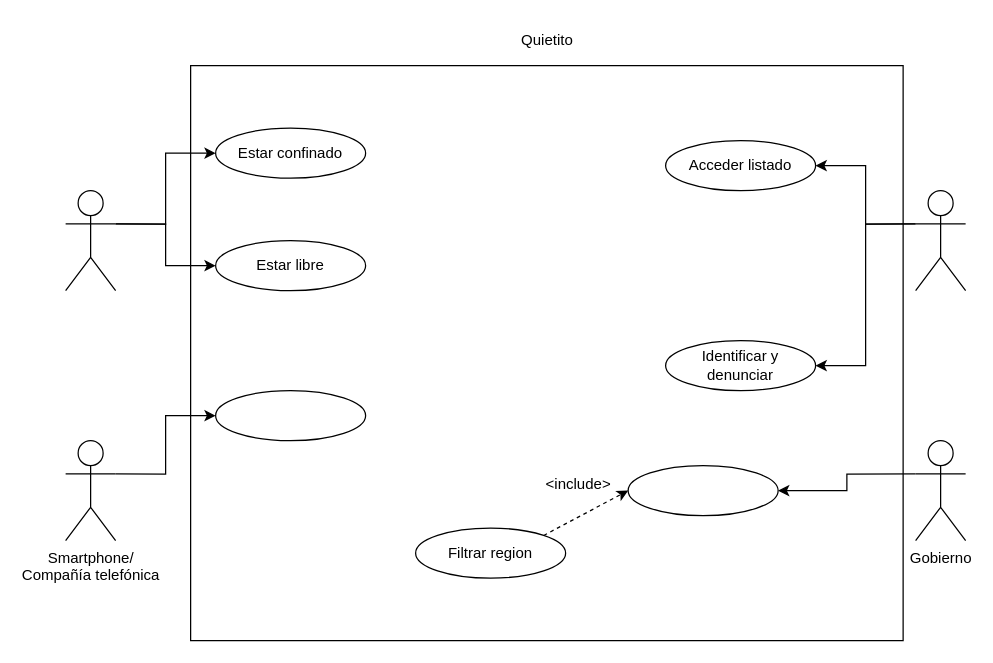
This 993x663 diagram has some shape labels left out. The shapes that lost their labels are listed below. From the top down, each one's box as (x1, y1, x2, y2) in pixels, then its label:
(64, 189, 116, 291): Organismo Oficial (Regional)
(914, 189, 966, 291): Policia
(214, 389, 366, 441): Enviar ubicación
(627, 464, 778, 516): Recibe estadistica
